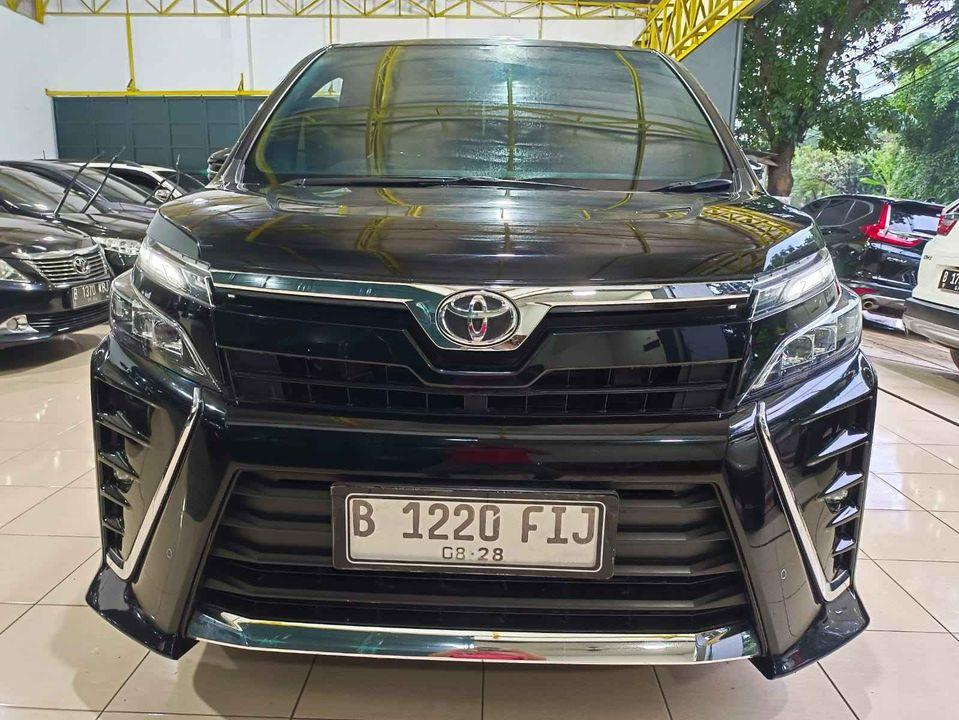plat nomor: (322, 474, 620, 587)
